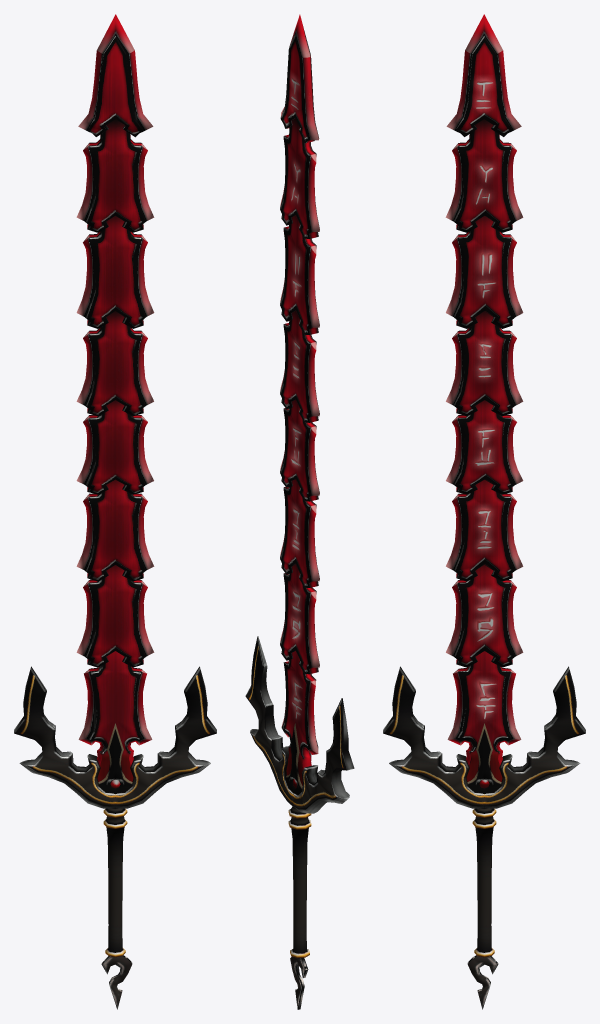
The model's file is edgepunisher20.obj.
3 renders of one model, left to right at view 1: azimuth 90°, elevation 25°; view 2: azimuth 210°, elevation 25°; view 3: azimuth 270°, elevation 25°, orthographic.
Visible parts, largest first — view 1: MDL_w22sw20_root, MDL_w22sw20_06, MDL_w22sw20_07, MDL_w22sw20_01, MDL_w22sw20_05, MDL_w22sw20_03, MDL_w22sw20_02, MDL_w22sw20_04, MDL_w22sw20_08; view 2: MDL_w22sw20_root, MDL_w22sw20_06, MDL_w22sw20_07, MDL_w22sw20_01, MDL_w22sw20_05, MDL_w22sw20_03, MDL_w22sw20_02, MDL_w22sw20_08, MDL_w22sw20_04; view 3: MDL_w22sw20_root, MDL_w22sw20_06, MDL_w22sw20_07, MDL_w22sw20_01, MDL_w22sw20_05, MDL_w22sw20_03, MDL_w22sw20_02, MDL_w22sw20_04, MDL_w22sw20_08.
Boxes of the visible parts, x1,y1,x2,y2 form: MDL_w22sw20_root: (14, 666, 216, 1009); MDL_w22sw20_06: (76, 216, 154, 328); MDL_w22sw20_07: (76, 119, 154, 232); MDL_w22sw20_01: (78, 651, 152, 788); MDL_w22sw20_05: (76, 311, 153, 416); MDL_w22sw20_03: (76, 479, 154, 581); MDL_w22sw20_02: (76, 565, 154, 667); MDL_w22sw20_04: (76, 400, 153, 494); MDL_w22sw20_08: (78, 14, 153, 137); MDL_w22sw20_root: (245, 636, 354, 1009); MDL_w22sw20_06: (280, 215, 319, 334); MDL_w22sw20_07: (280, 118, 319, 238); MDL_w22sw20_01: (281, 651, 318, 788); MDL_w22sw20_05: (280, 310, 319, 422); MDL_w22sw20_03: (280, 479, 319, 587); MDL_w22sw20_02: (280, 565, 319, 674); MDL_w22sw20_08: (280, 14, 319, 143); MDL_w22sw20_04: (280, 400, 319, 501); MDL_w22sw20_root: (383, 666, 585, 1009); MDL_w22sw20_06: (446, 216, 523, 328); MDL_w22sw20_07: (445, 119, 523, 232); MDL_w22sw20_01: (447, 651, 521, 788); MDL_w22sw20_05: (446, 311, 523, 416); MDL_w22sw20_03: (446, 479, 523, 581); MDL_w22sw20_02: (446, 565, 523, 667); MDL_w22sw20_04: (446, 400, 523, 494); MDL_w22sw20_08: (446, 14, 521, 136).
Bounding box in the file's own units: 0.0432 × 2.01 × 0.3714.
1 material, 1 textured.
